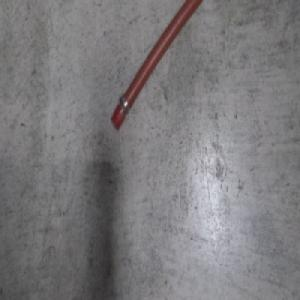Hose: (108, 0, 203, 132)
